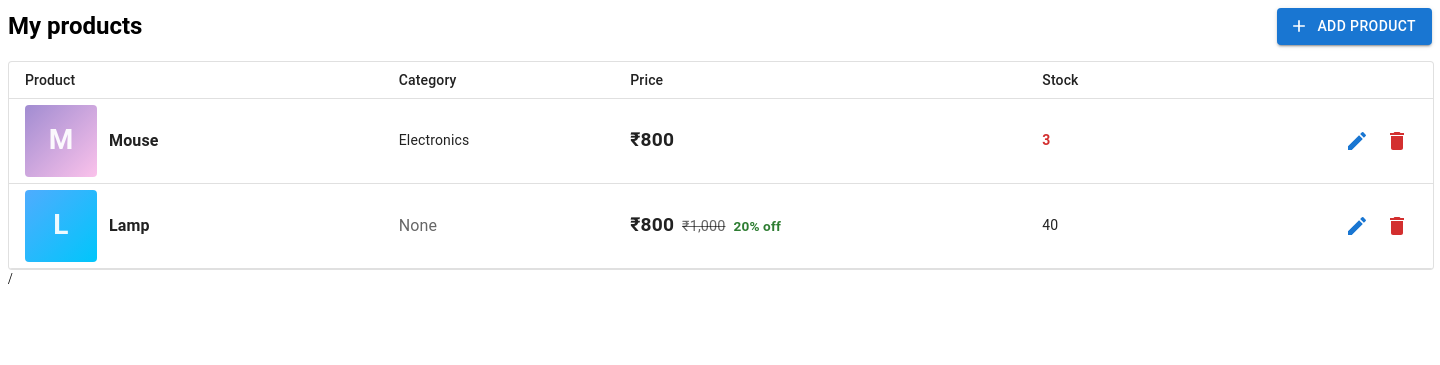
Test: ProductManager › shows why a delete failed
Expected: the text "Mouse" is shown, [109,128,159,152]
Click the button named "Delete Mouse". click: click(1397, 140)
box: [1377,120,1417,160]
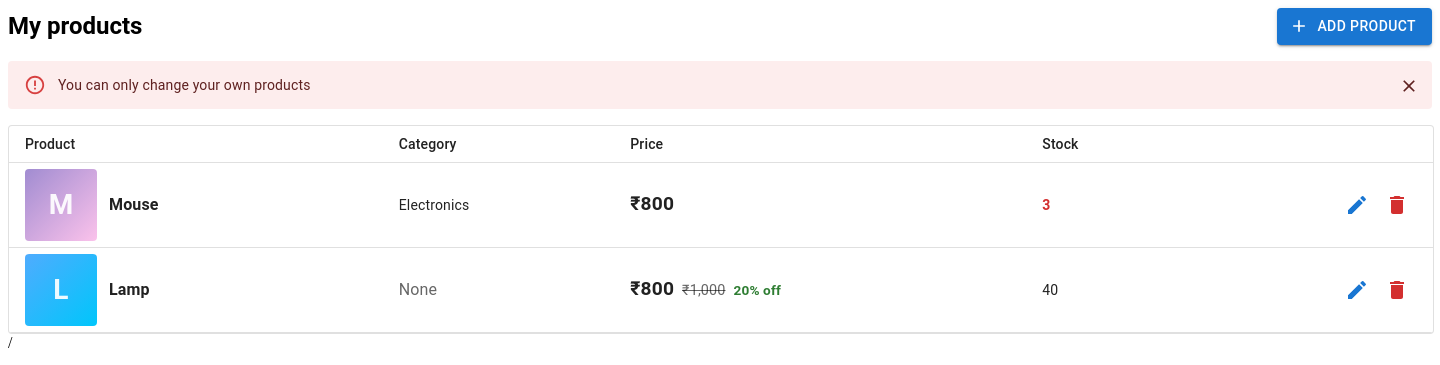
Expected: the text "You can only change your own products" is shown, [58,76,310,92]
